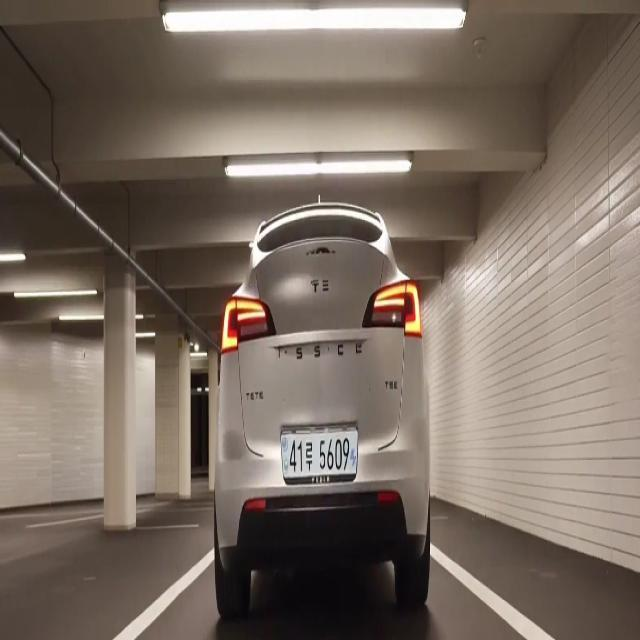car: (277, 420, 361, 490)
carev: (279, 430, 289, 488), (349, 433, 358, 484)
